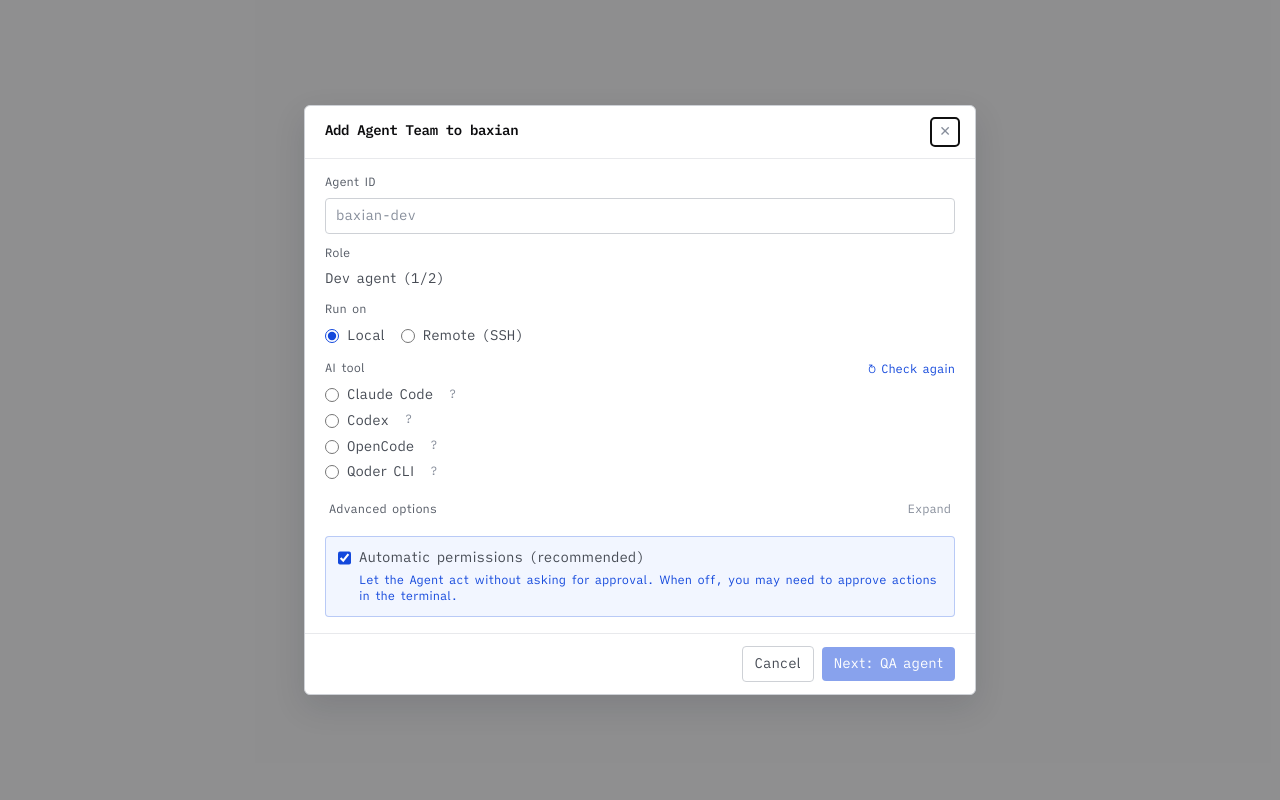
it: remote mode shows a host picker (not a raw hostname input)
Click the radio button labelled "Remote (SSH)".
click(408, 336)  # box x1=401 y1=329 x2=415 y2=343
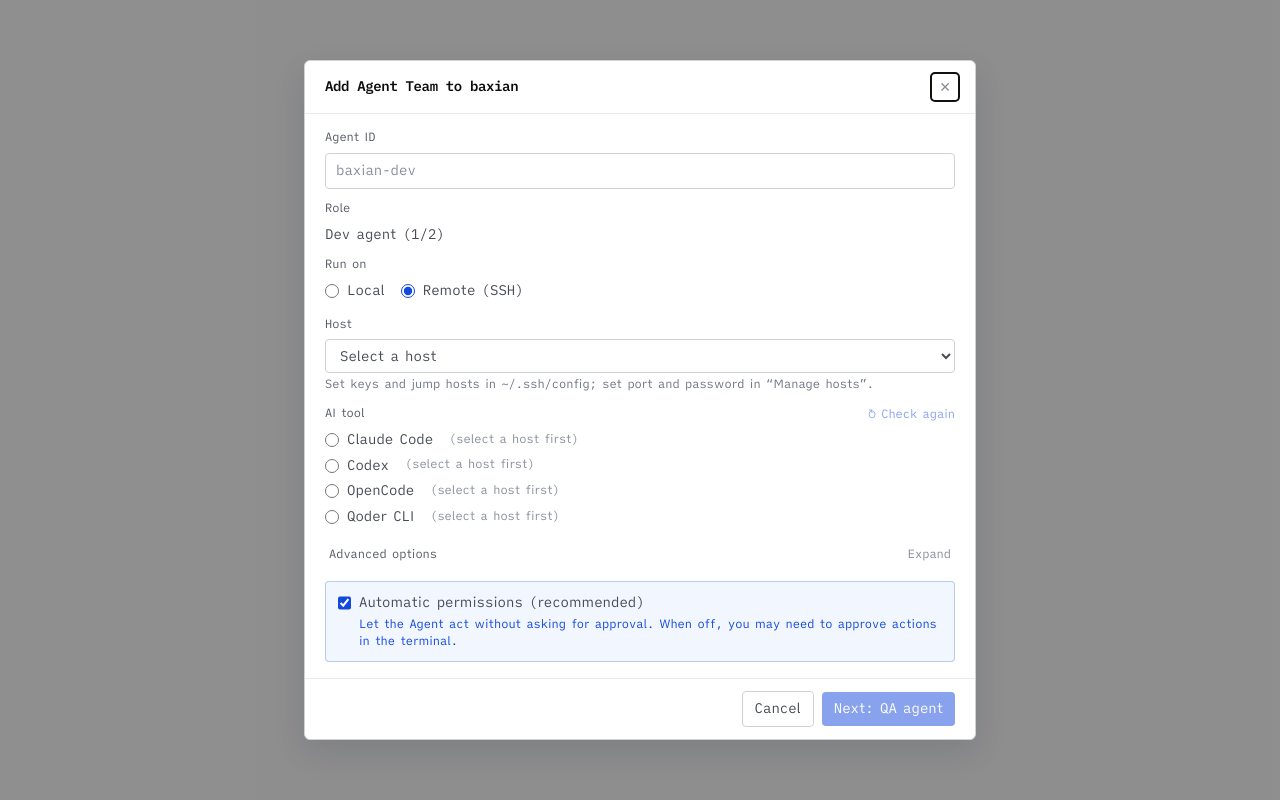
Expected: the dropdown labelled "Host" is shown, x1=325 y1=340 x2=955 y2=374
